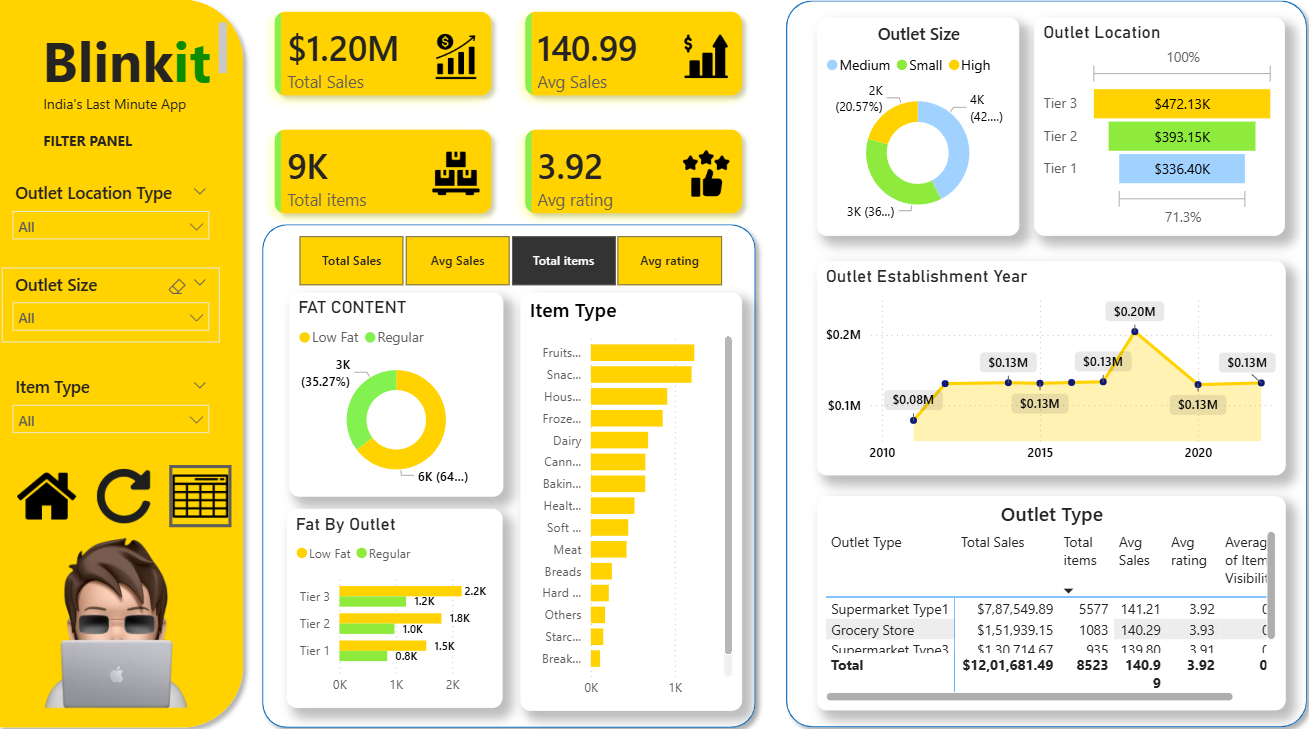

The page's visual inventory and layout, read from the dashboard file:
{"tool":"powerbi","page":{"name":"Blinkit-Dashboard","canvas":[1280,720],"ordinal":0},"visuals":[{"type":"shape","box":[0,0,255,720],"z":0},{"type":"slicer","fields":{"Values":["BlinkIT Grocery Data.Outlet Location Type"]},"box":[13.3,180,210,71.7],"z":0,"group":"g1"},{"type":"textbox","box":[46.5,26.9,188,68.6],"z":1000},{"type":"slicer","fields":{"Values":["BlinkIT Grocery Data.Outlet Size"]},"box":[13.3,268.3,210,71.7],"z":1000,"group":"g1"},{"type":"cardVisual","fields":{"Data":["BlinkIT Grocery Data.Total Sales","BlinkIT Grocery Data.Avg Sales","BlinkIT Grocery Data.Total items","BlinkIT Grocery Data.Avg rating"]},"box":[255,0,493.3,236.7],"z":2000},{"type":"slicer","fields":{"Values":["BlinkIT Grocery Data.Item Type"]},"box":[13.3,366.7,210,71.7],"z":2000,"group":"g1"},{"type":"shape","box":[255,216.7,493.3,503.3],"z":4000},{"type":"slicer","fields":{"Values":["Parameter.Parameter"]},"box":[280,235,446.7,51.7],"z":5000},{"type":"donutChart","title":"FAT CONTENT","fields":{"Y":["BlinkIT Grocery Data.Total items"],"Category":["BlinkIT Grocery Data.Item Fat Content"]},"box":[290,291.7,206.7,196.7],"z":6000},{"type":"clusteredBarChart","title":"Fat By Outlet ","fields":{"Y":["BlinkIT Grocery Data.Total items"],"Category":["BlinkIT Grocery Data.Outlet Location Type"],"Series":["BlinkIT Grocery Data.Item Fat Content"]},"box":[288.3,500,208.3,191.7],"z":7000},{"type":"barChart","title":"Item Type","fields":{"Y":["BlinkIT Grocery Data.Total items"],"Category":["BlinkIT Grocery Data.Item Type"]},"box":[513.3,291.7,213.3,403.3],"z":8000},{"type":"shape","box":[760,1.7,520,718.3],"z":9000},{"type":"donutChart","title":"Outlet Size","fields":{"Y":["BlinkIT Grocery Data.Total items"],"Category":["BlinkIT Grocery Data.Outlet Size"]},"box":[798.3,26.7,195,210],"z":10000},{"type":"funnel","title":"Outlet Location","fields":{"Category":["BlinkIT Grocery Data.Outlet Location Type"],"Y":["BlinkIT Grocery Data.Total Sales"]},"box":[1008.3,26.7,241.7,210],"z":11000},{"type":"lineChart","title":"Outlet Establishment Year","fields":{"Category":["BlinkIT Grocery Data.Outlet Establishment Year"],"Y":["BlinkIT Grocery Data.Total Sales"]},"box":[798.3,261.7,451.7,206.7],"z":12000},{"type":"pivotTable","title":"Outlet Type","fields":{"Rows":["BlinkIT Grocery Data.Outlet Type"],"Values":["BlinkIT Grocery Data.Total Sales","BlinkIT Grocery Data.Total items","BlinkIT Grocery Data.Avg Sales","BlinkIT Grocery Data.Avg rating","Avg(BlinkIT Grocery Data.Item Visibility)"]},"box":[798.3,488.3,451.7,206.7],"z":13000},{"type":"group","id":"g1","title":"Group 2","box":[13.3,180,210,258.3],"z":14000},{"type":"textbox","box":[48.3,131.7,106.7,48.3],"z":15000},{"type":"actionButton","box":[26.7,458.3,60,60],"z":16000},{"type":"actionButton","box":[101.7,458.3,60,60],"z":17000},{"type":"actionButton","box":[175,458.3,60,60],"z":18000},{"type":"textbox","box":[48.3,95,155,31.7],"z":18001},{"type":"image","box":[11.7,500,223.3,220],"z":18002}]}

Visuals, with their boxes in screenshot pixels (x1, y1, x2, y2), scaled from the page's 1280x720 canvas onto the 1309x729 screenshot:
shape: (x1=0, y1=0, x2=261, y2=728)
slicer - BlinkIT Grocery Data.Outlet Location Type: (x1=14, y1=182, x2=228, y2=255)
textbox: (x1=48, y1=27, x2=240, y2=97)
slicer - BlinkIT Grocery Data.Outlet Size: (x1=14, y1=272, x2=228, y2=344)
cardVisual - BlinkIT Grocery Data.Total Sales x BlinkIT Grocery Data.Avg Sales: (x1=261, y1=0, x2=765, y2=240)
slicer - BlinkIT Grocery Data.Item Type: (x1=14, y1=371, x2=228, y2=444)
shape: (x1=261, y1=219, x2=765, y2=728)
slicer - Parameter.Parameter: (x1=286, y1=238, x2=743, y2=290)
"FAT CONTENT" donutChart: (x1=297, y1=295, x2=508, y2=495)
"Fat By Outlet " clusteredBarChart: (x1=295, y1=506, x2=508, y2=700)
"Item Type" barChart: (x1=525, y1=295, x2=743, y2=704)
shape: (x1=777, y1=2, x2=1308, y2=728)
"Outlet Size" donutChart: (x1=816, y1=27, x2=1016, y2=240)
"Outlet Location" funnel: (x1=1031, y1=27, x2=1278, y2=240)
"Outlet Establishment Year" lineChart: (x1=816, y1=265, x2=1278, y2=474)
"Outlet Type" pivotTable: (x1=816, y1=494, x2=1278, y2=704)
"Group 2" group: (x1=14, y1=182, x2=228, y2=444)
textbox: (x1=49, y1=133, x2=159, y2=182)
actionButton: (x1=27, y1=464, x2=89, y2=525)
actionButton: (x1=104, y1=464, x2=165, y2=525)
actionButton: (x1=179, y1=464, x2=240, y2=525)
textbox: (x1=49, y1=96, x2=208, y2=128)
image: (x1=12, y1=506, x2=240, y2=728)
